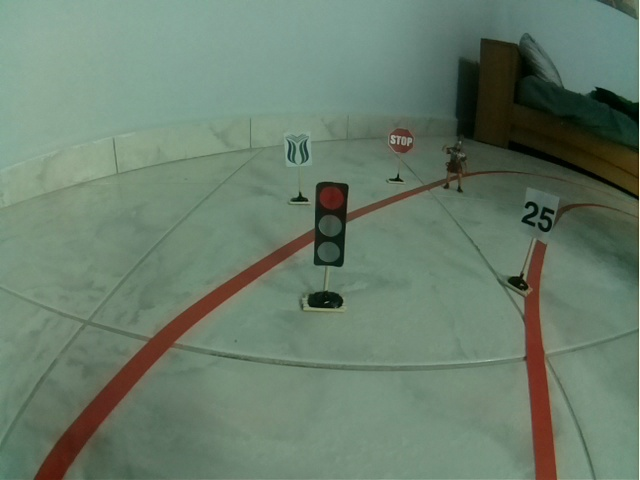Person: (441, 133, 469, 194)
Red Traffic Light: (313, 181, 349, 268)
Speed Limit 25: (519, 188, 560, 245)
Stop: (387, 127, 415, 155)
Subu: (284, 132, 312, 166)
